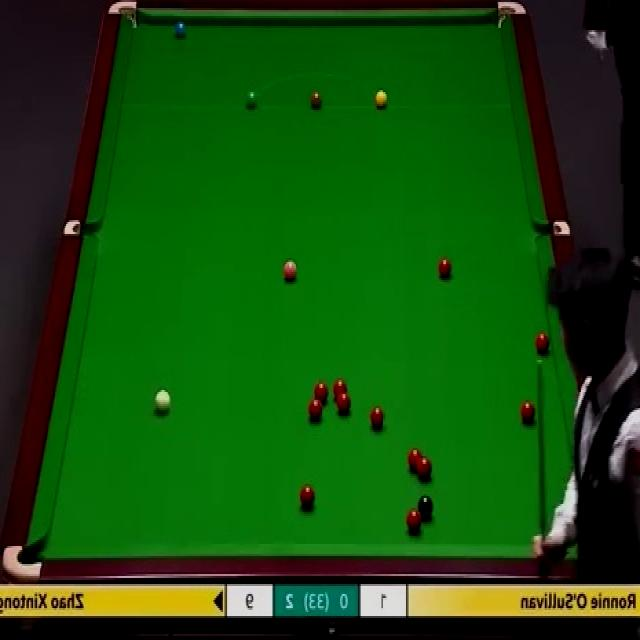black-ball: (418, 496, 434, 519)
blue-ball: (174, 20, 186, 42)
brown-ball: (310, 90, 323, 109)
green-ball: (246, 90, 259, 109)
pink-ball: (282, 262, 298, 284)
red-ball: (307, 396, 323, 424), (414, 458, 432, 482), (519, 398, 535, 424), (299, 484, 315, 510), (535, 333, 550, 358), (407, 508, 422, 531), (371, 404, 385, 428), (407, 449, 423, 470), (335, 394, 350, 415), (333, 378, 348, 399), (314, 381, 328, 403), (438, 260, 452, 278)
white-ball: (154, 387, 170, 417)
yellow-ball: (375, 90, 388, 109)
